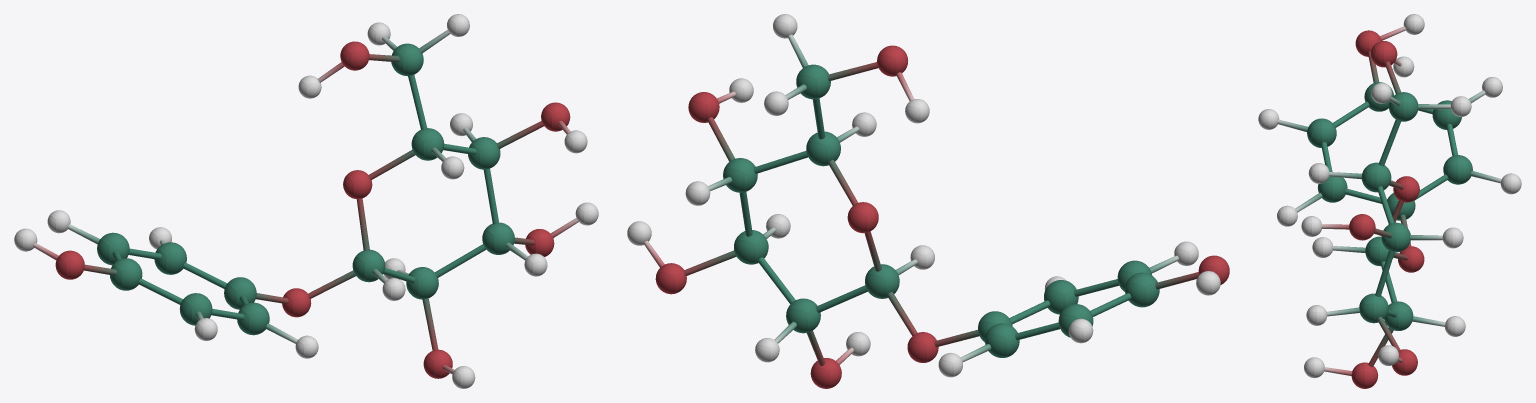
Rendered from Arbutin.fbx.
3 views of the same model, side by side, from view 1: azimuth 30°, elevation 25°; view 2: azimuth 150°, elevation 25°; view 3: azimuth 270°, elevation 25° (orthographic). The views are drawn at different scales.
Visible parts, largest first — view 1: curMeshHyperballExportedMesh; view 2: curMeshHyperballExportedMesh; view 3: curMeshHyperballExportedMesh.
Part boxes in pixels (x1,y1,x2,y2): curMeshHyperballExportedMesh: [14, 14, 598, 388]; curMeshHyperballExportedMesh: [627, 14, 1229, 388]; curMeshHyperballExportedMesh: [1258, 14, 1521, 388].
Size of the model in its own units: 11.33 by 6.66 by 5.01.
